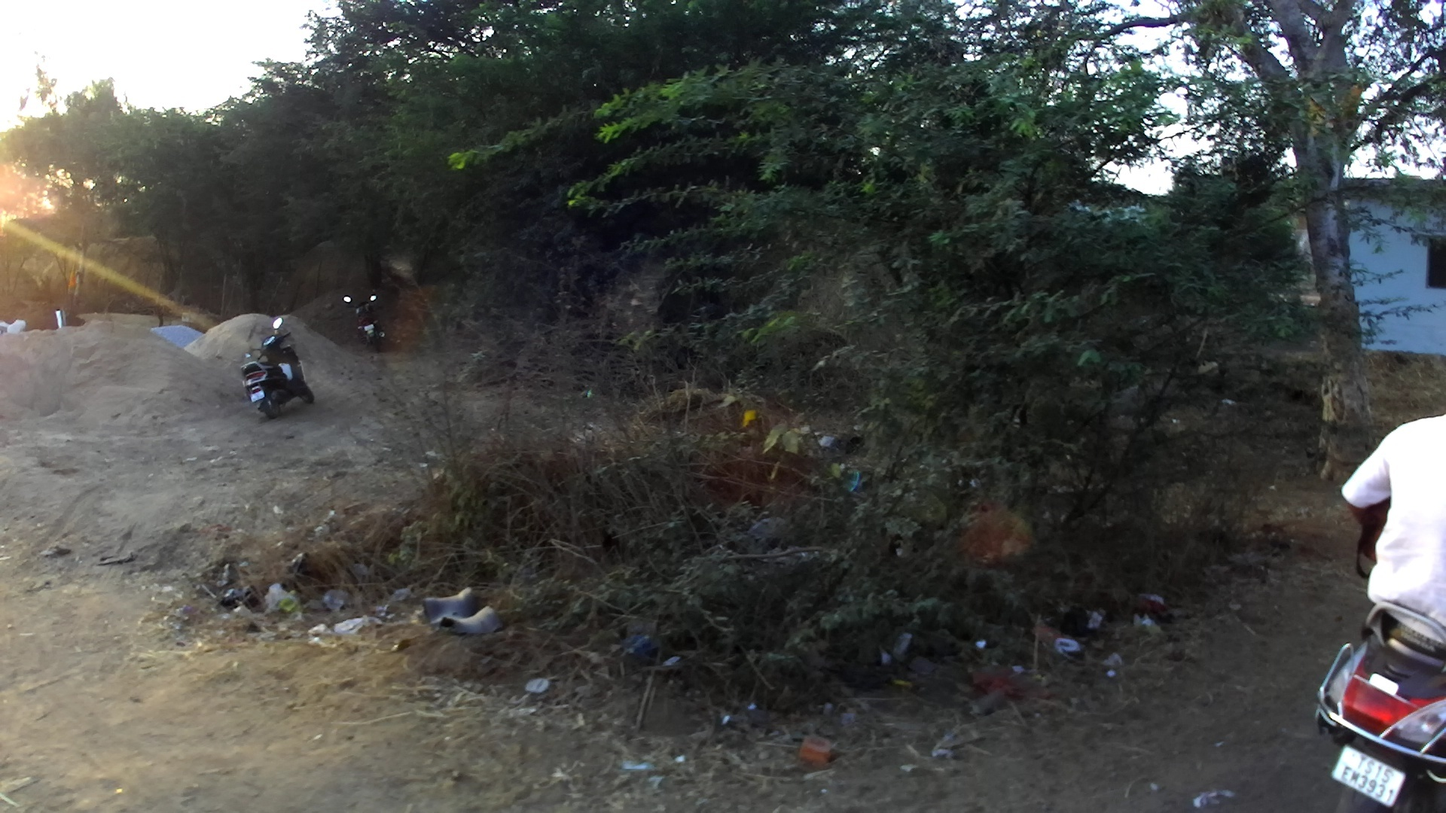motorcycle: (1315, 540, 1446, 813), (239, 316, 316, 419), (342, 294, 386, 352)
rider: (1340, 416, 1446, 641)
